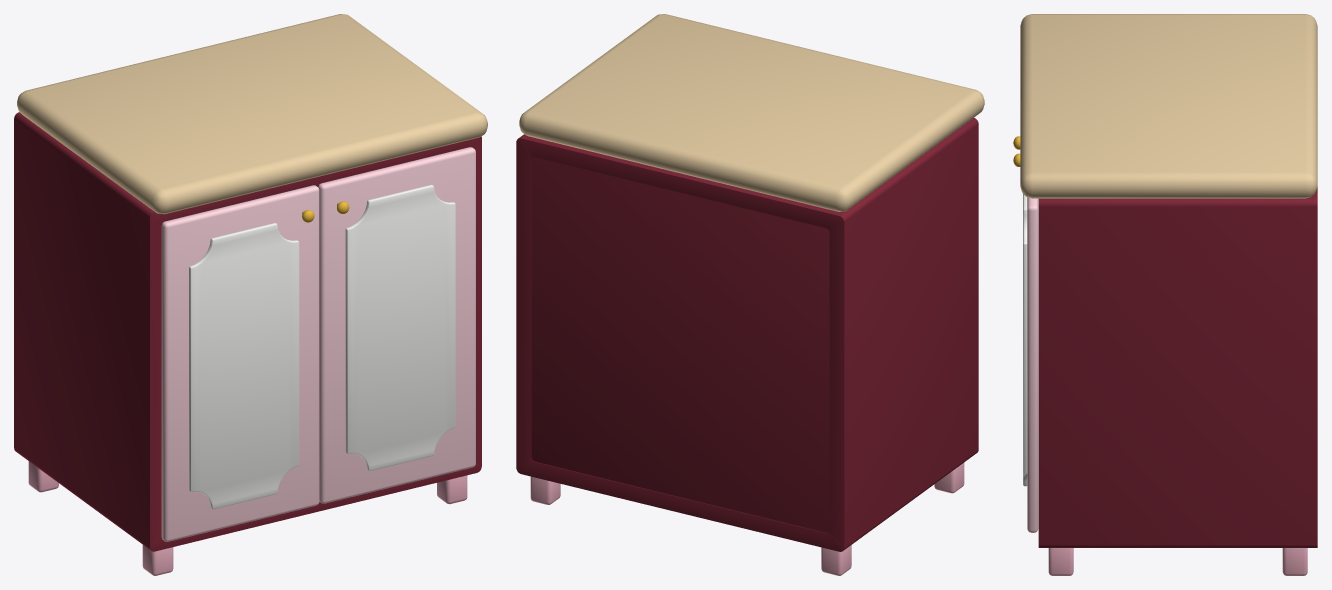
The model's file is armario_cozinha_base_2portas_classica_vinho.glb.
The picture shows the model from 3 angles, left to right: view 1: azimuth 30°, elevation 25°; view 2: azimuth 150°, elevation 25°; view 3: azimuth 270°, elevation 25°; orthographic projection. The views are drawn at different scales.
Parts seen in each view (by area): view 1: armario_cozinha_base_2portas_classica_vinho, porta_1, porta_2; view 2: armario_cozinha_base_2portas_classica_vinho; view 3: armario_cozinha_base_2portas_classica_vinho, porta_2.
Part boxes in pixels (<box>): armario_cozinha_base_2portas_classica_vinho: <box>14,14,487,575</box>; porta_1: <box>161,185,319,541</box>; porta_2: <box>318,147,475,503</box>; armario_cozinha_base_2portas_classica_vinho: <box>516,14,984,575</box>; armario_cozinha_base_2portas_classica_vinho: <box>1020,14,1317,575</box>; porta_2: <box>1013,153,1038,532</box>.
Size of the model in its own units: 0.798 by 0.9 by 0.6131.
1 material, 1 textured.
